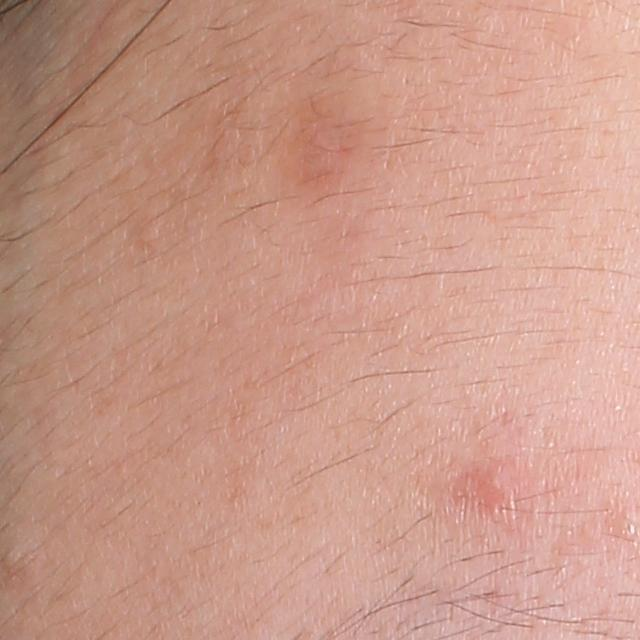melasma: (253, 64, 389, 232)
papule: (480, 467, 509, 506)
